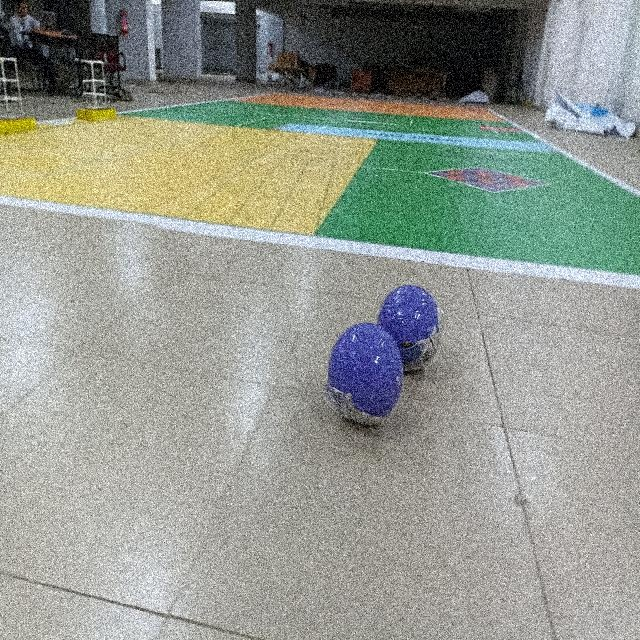purple_ball: (328, 319, 404, 430), (376, 272, 439, 373)
silo: (0, 48, 34, 137), (76, 52, 110, 124)
